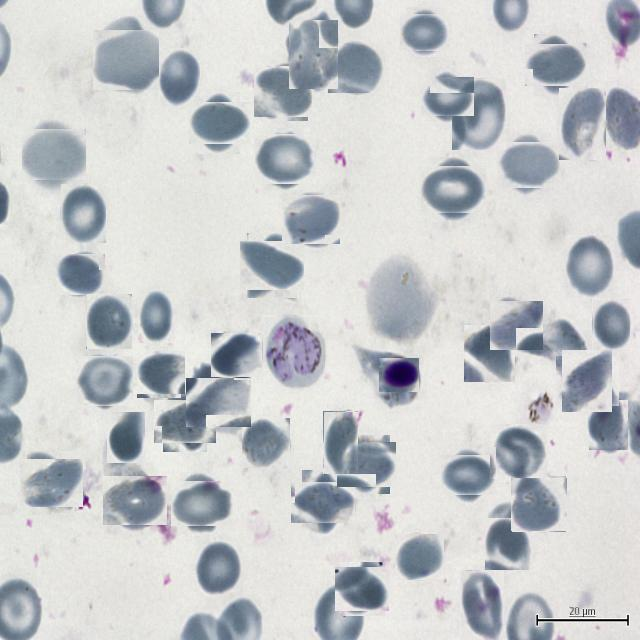difficult: (262, 316, 325, 388)
leukocyte: (380, 356, 418, 394)
red blood cell: (94, 28, 158, 92), (452, 79, 506, 150), (288, 20, 338, 90), (559, 88, 606, 160), (25, 125, 83, 183), (190, 374, 248, 432), (243, 237, 300, 294), (107, 472, 163, 529), (426, 162, 482, 218), (258, 132, 314, 188), (23, 455, 79, 511), (560, 353, 616, 409), (490, 426, 546, 481), (460, 570, 504, 640), (566, 236, 614, 300), (255, 64, 310, 119), (500, 138, 556, 192), (512, 476, 566, 532), (329, 41, 384, 95), (175, 476, 229, 530), (78, 354, 132, 408), (158, 394, 212, 448), (284, 192, 338, 246), (464, 325, 515, 382), (60, 183, 106, 243), (296, 476, 349, 528), (341, 438, 393, 491), (193, 97, 245, 149), (529, 39, 581, 91), (492, 299, 542, 352), (195, 540, 241, 596), (86, 293, 132, 349), (338, 564, 388, 614), (485, 518, 532, 570), (158, 48, 200, 106), (242, 418, 290, 468), (444, 451, 492, 499), (396, 532, 444, 580), (212, 331, 260, 379), (135, 348, 183, 396), (424, 73, 472, 120), (323, 411, 358, 474), (58, 252, 104, 297), (589, 400, 628, 450), (592, 299, 630, 350), (107, 412, 145, 463), (403, 10, 447, 54), (138, 290, 174, 343)
